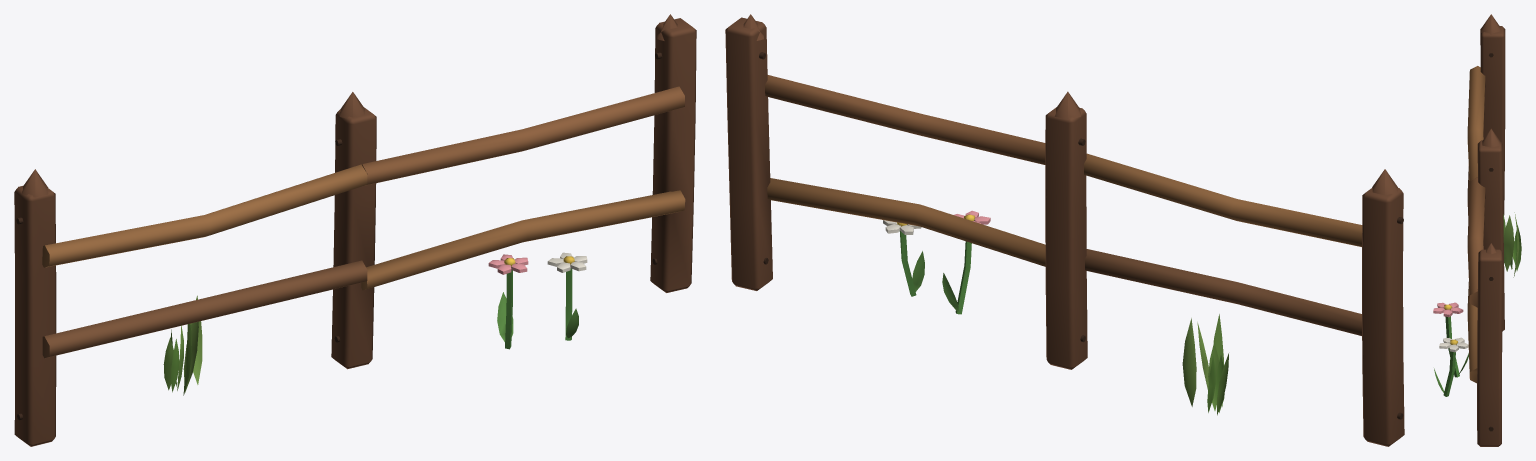
The model's file is fence.glb.
3 renders of one model, left to right at view 1: azimuth 30°, elevation 25°; view 2: azimuth 150°, elevation 25°; view 3: azimuth 270°, elevation 25°, orthographic. The views are drawn at different scales.
Parts seen in each view (by area): view 1: Fence; view 2: Fence; view 3: Fence.
Boxes of the visible parts, bbox=[...] form: Fence: bbox=[14, 14, 696, 446]; Fence: bbox=[725, 14, 1404, 446]; Fence: bbox=[1433, 14, 1521, 446].
Bounding box in the file's own units: 2.54 × 0.9825 × 0.3918.
